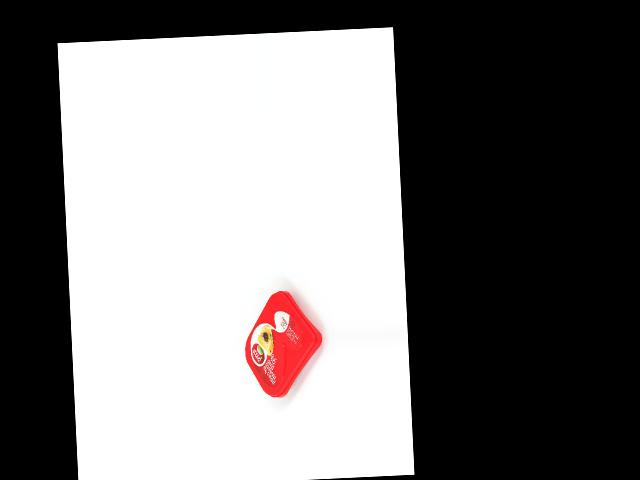cheese: (242, 288, 325, 399)
